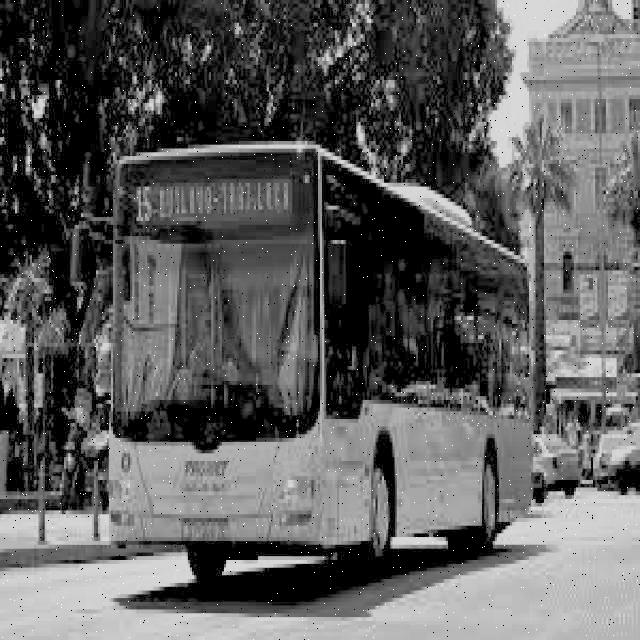Bus: (67, 121, 546, 599)
